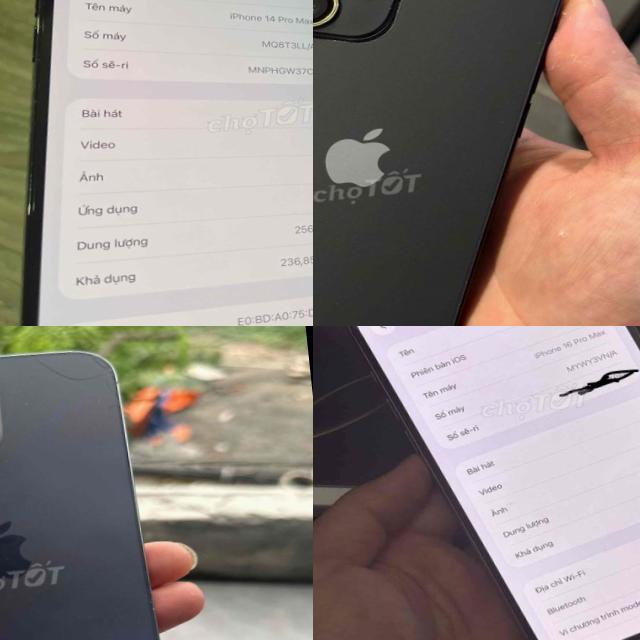gen_12_13: (313, 0, 613, 326)
gen_14: (0, 0, 313, 326), (0, 335, 186, 640)
gen_16: (349, 326, 640, 640)
